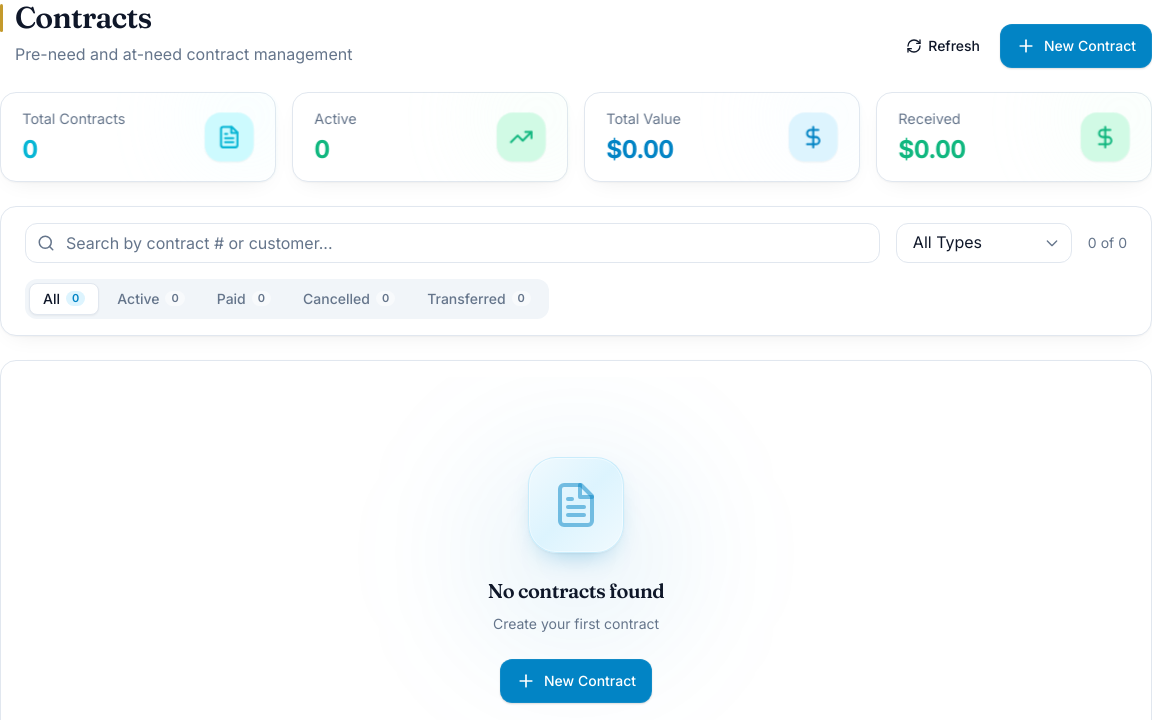
Scenario: Contracts page › refuses to submit with neither a total nor line items, and says why
Click the button "New Contract".
click(1076, 46)  # box top-left (1000, 24), bottom-right (1151, 68)
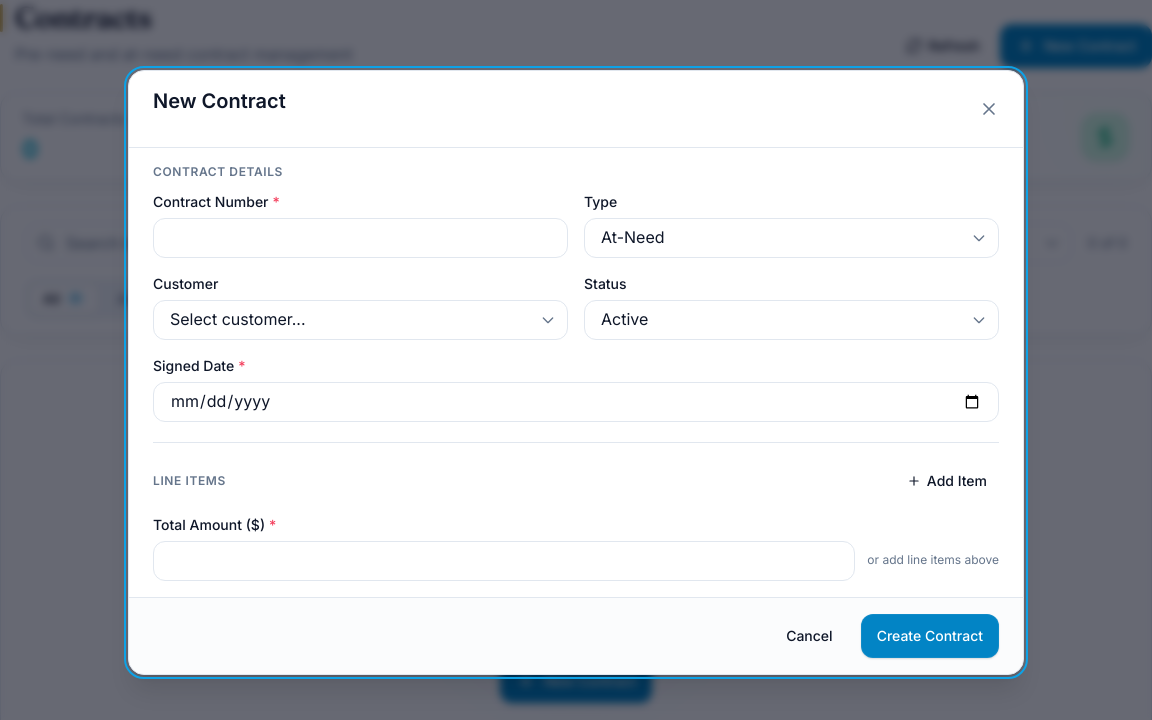
expect the button "Create Contract" is shown: met, box top-left (861, 614), bottom-right (999, 658)
Type "C-2026-001" into the field labelled "Contract Number*".
click(360, 238); type("C-2026-001")  # box top-left (153, 218), bottom-right (568, 258)
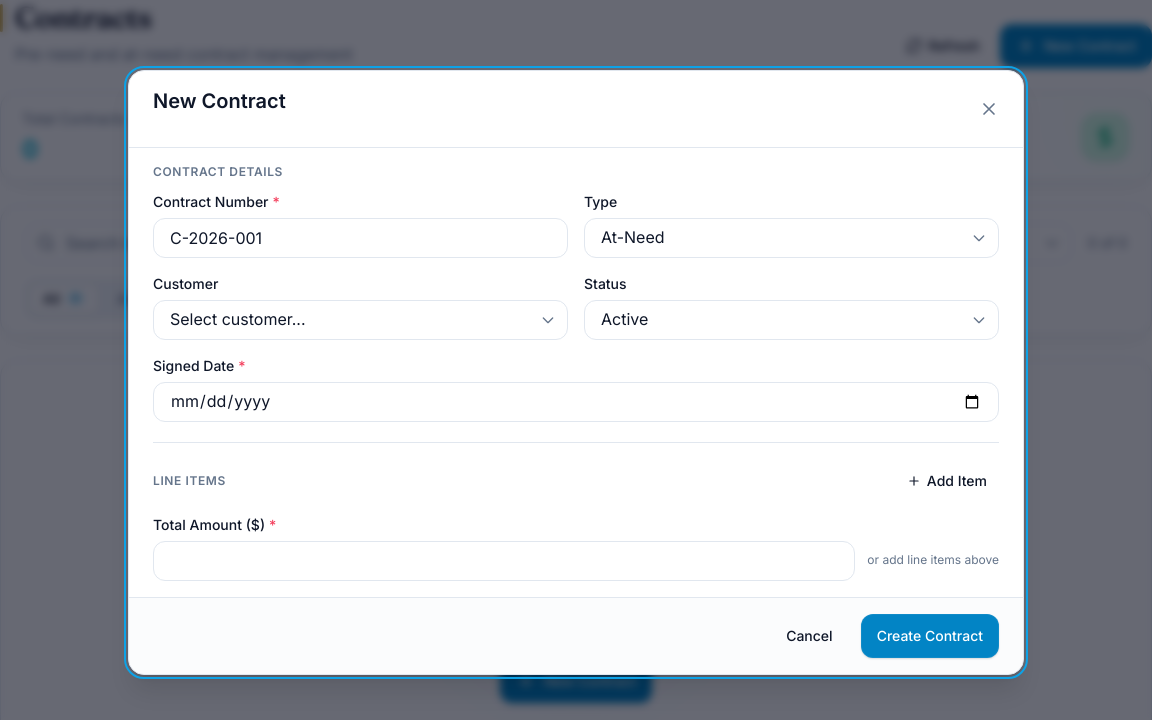
Select "Wright, Ada" in the dropdown labelled "Customer" at (360, 320), box top-left (153, 300), bottom-right (568, 340)
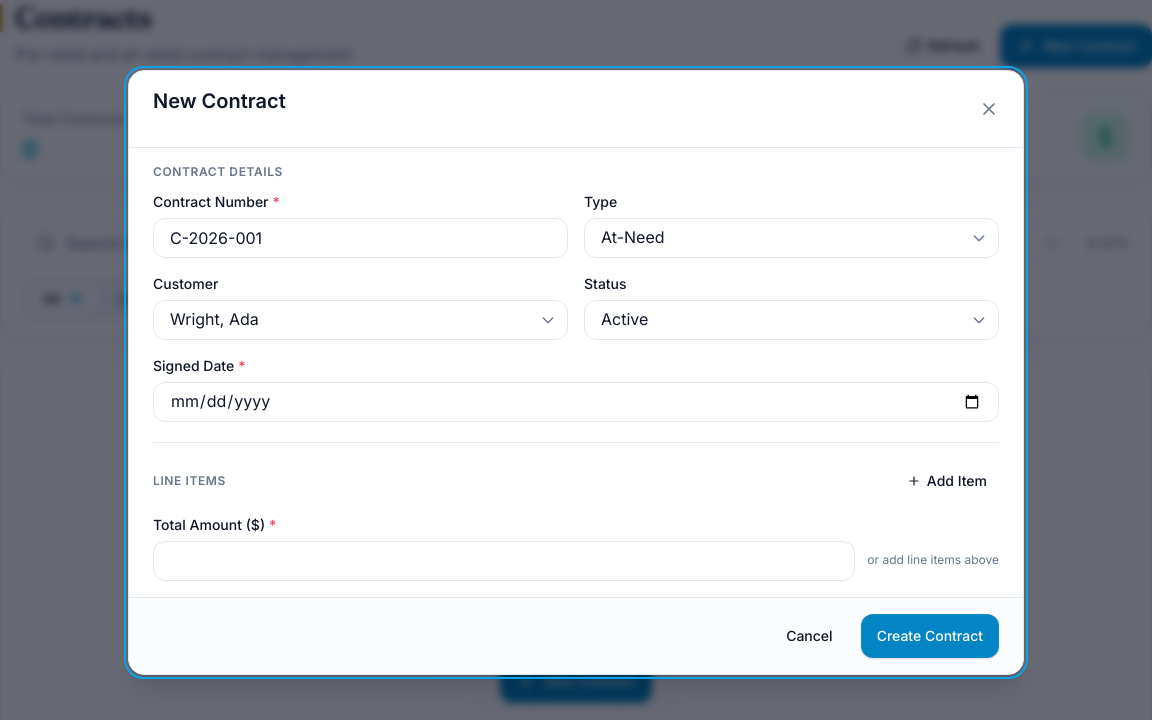
Type "2026-01-15" into the date field labelled "Signed Date*".
click(576, 402); type("2026-01-15")  # box top-left (153, 382), bottom-right (999, 422)
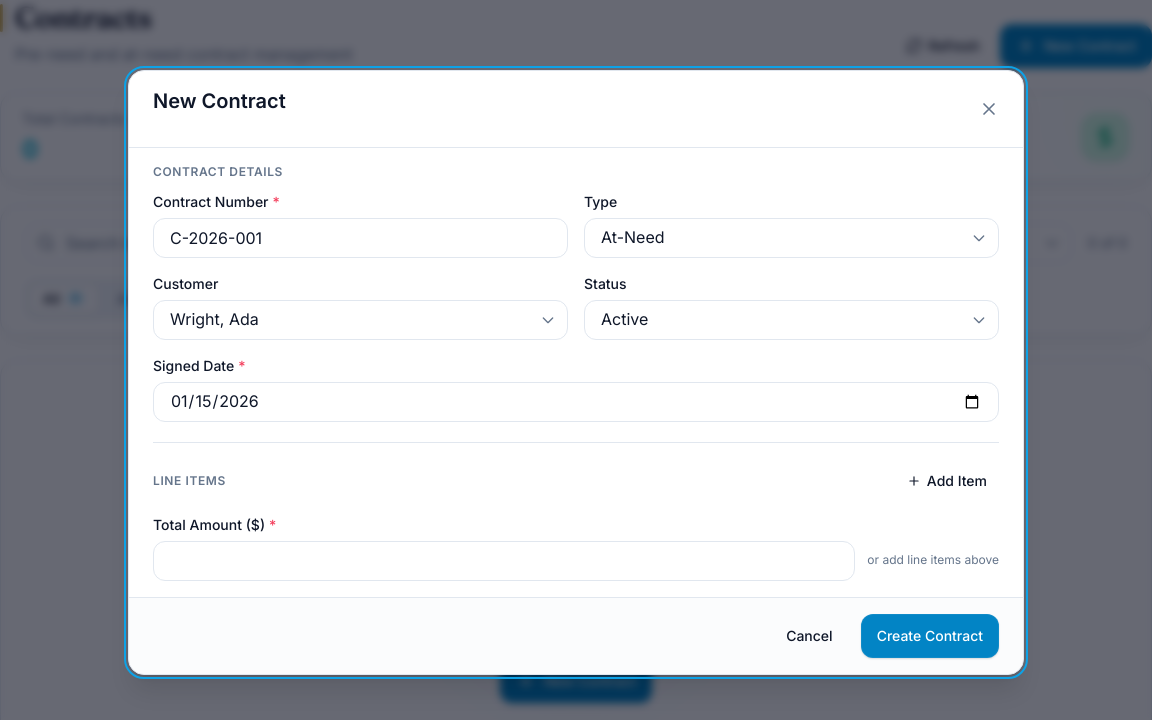
Click the button "Create Contract".
click(930, 636)  # box top-left (861, 614), bottom-right (999, 658)
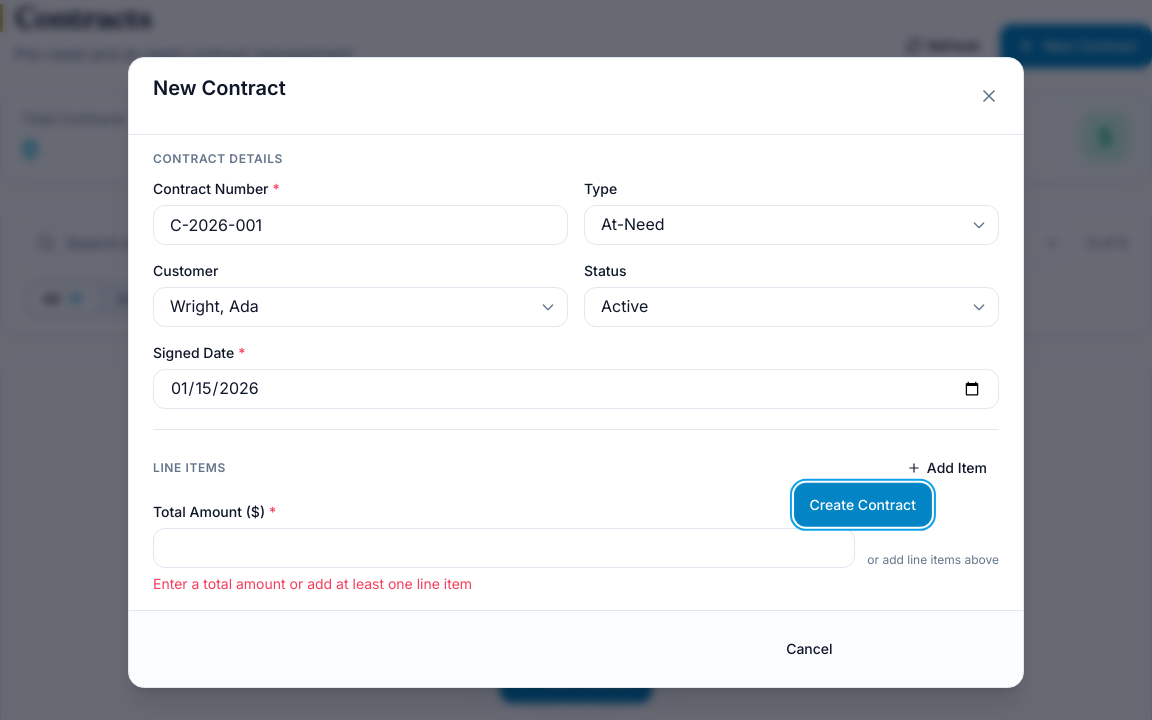
expect the text "Enter a total amount or add at least one line item" is shown: met, box top-left (153, 574), bottom-right (472, 592)
